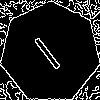I: (25, 27, 64, 72)
